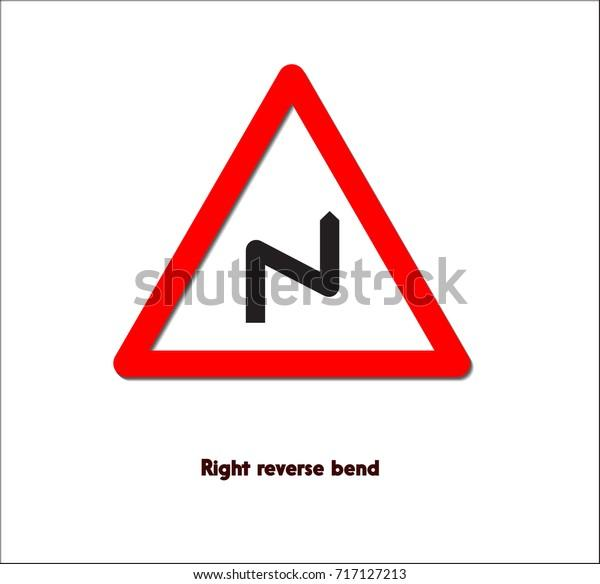Right Reverse Bend: (58, 46, 504, 427)
